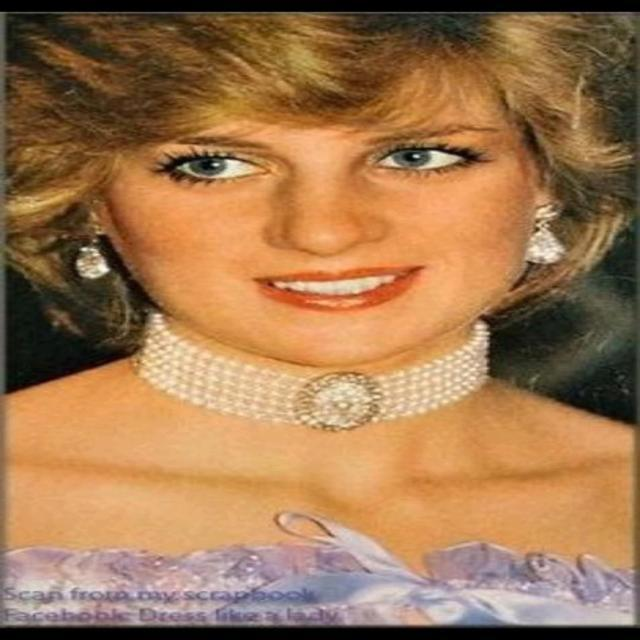Earring: (70, 201, 124, 285), (515, 194, 569, 264)
